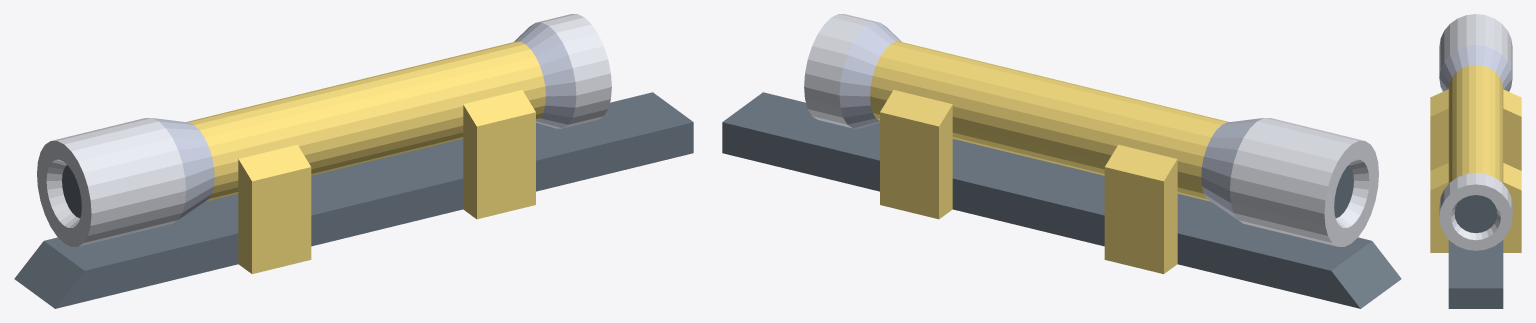
File: Sight_C.fbx
3 renders of one model, left to right at view 1: azimuth 30°, elevation 25°; view 2: azimuth 150°, elevation 25°; view 3: azimuth 270°, elevation 25°, orthographic. The views are drawn at different scales.
Parts seen in each view (by area): view 1: polySurface131; view 2: polySurface131; view 3: polySurface131.
Part boxes in pixels (x1=…): polySurface131: x1=14, y1=14, x2=693, y2=308; polySurface131: x1=722, y1=14, x2=1401, y2=308; polySurface131: x1=1430, y1=14, x2=1521, y2=308.
Size of the model in its own units: 54 by 11.5 by 10.
